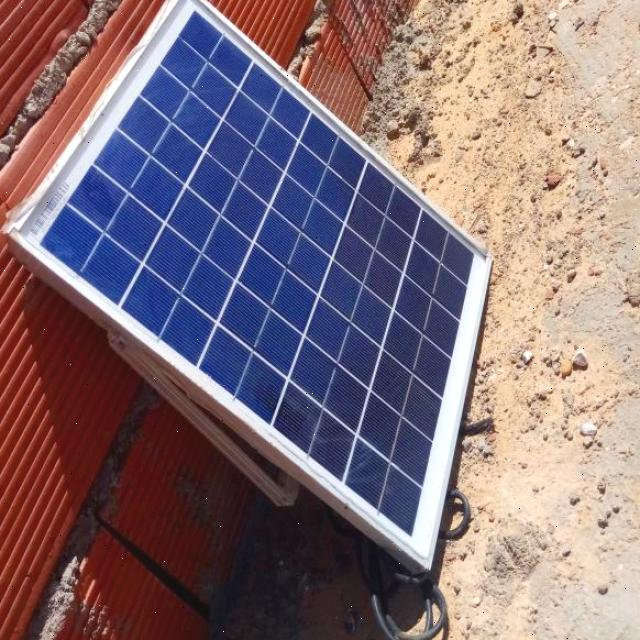Normal Solar Panel: (10, 0, 491, 566)
